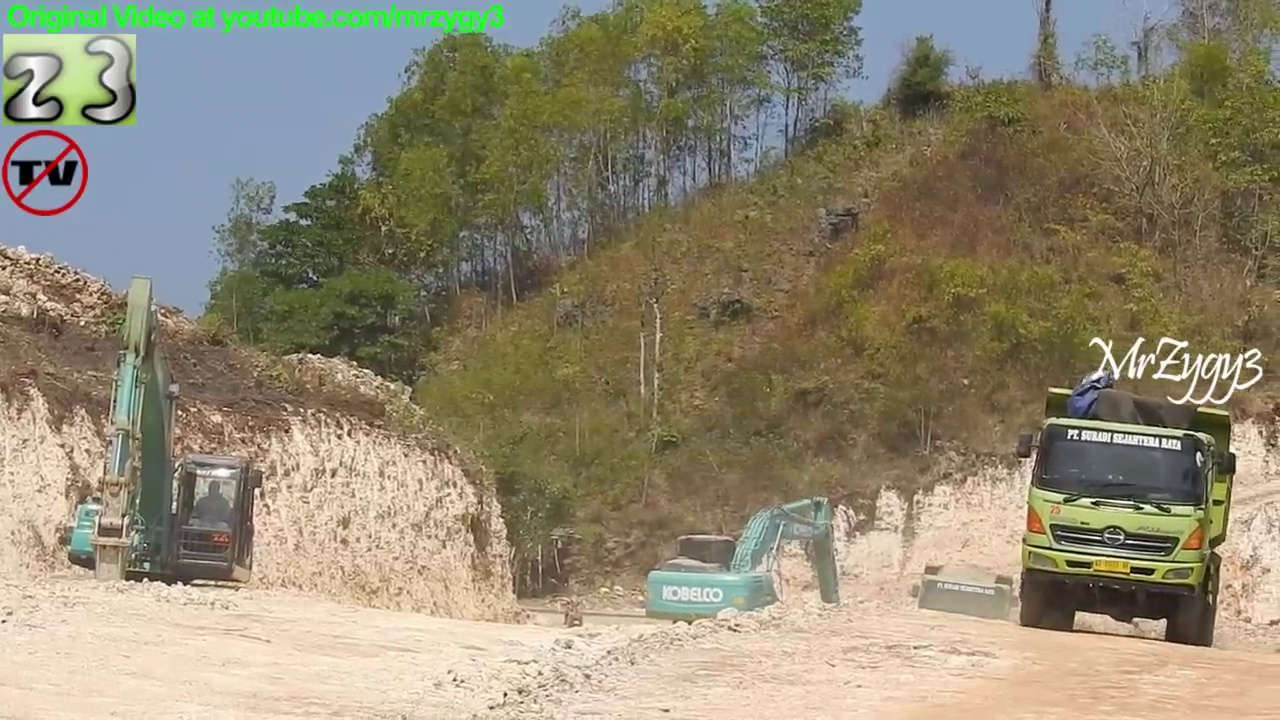excavator: (61, 271, 271, 630), (637, 488, 855, 667)
truck: (1012, 379, 1244, 655), (907, 559, 1023, 672)
